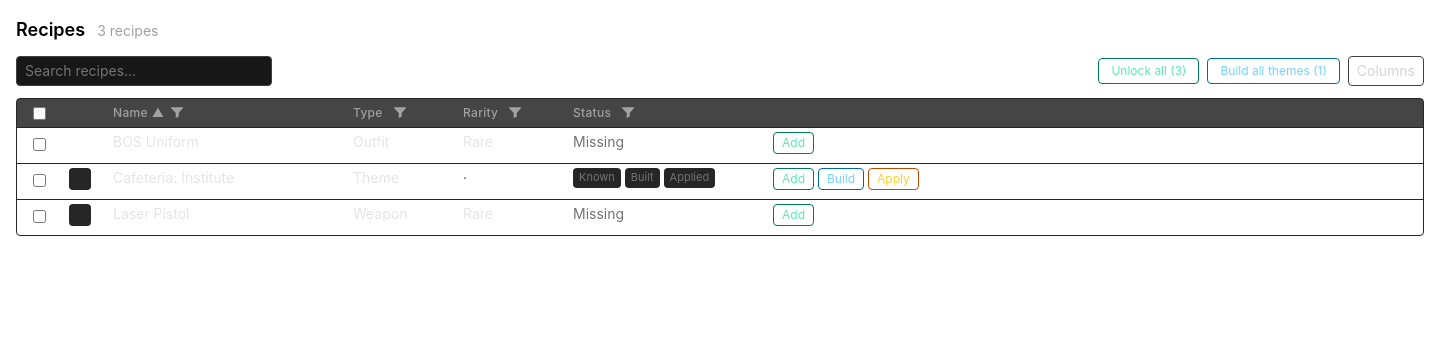
Test: RecipesView › detail side panel › clicking a weapon recipe row opens the panel with the item stats
Click the text "Laser Pistol": click(151, 214) [113,205,190,222]
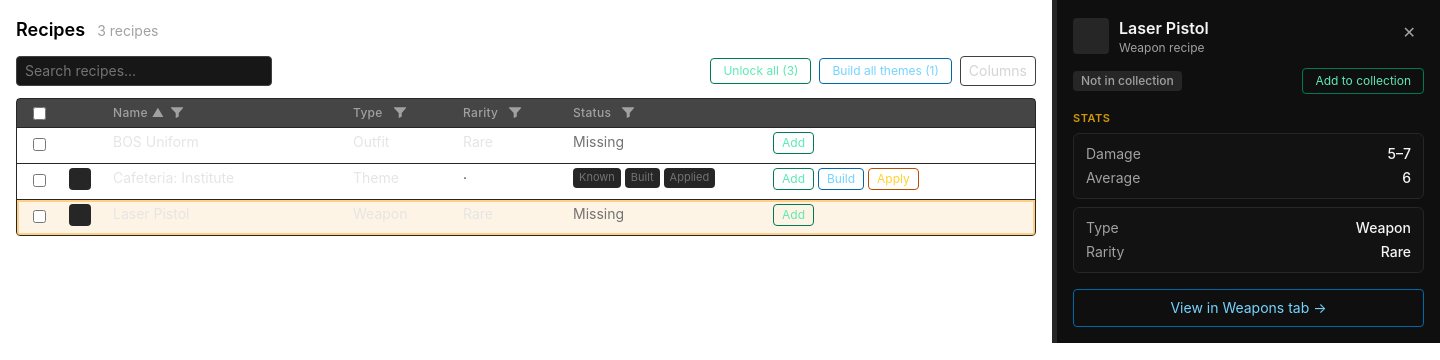
Now the text "5–7" is shown, box [1388,144,1411,164]
Now the button named "Close recipe panel" is shown, box [1395,16,1424,48]
